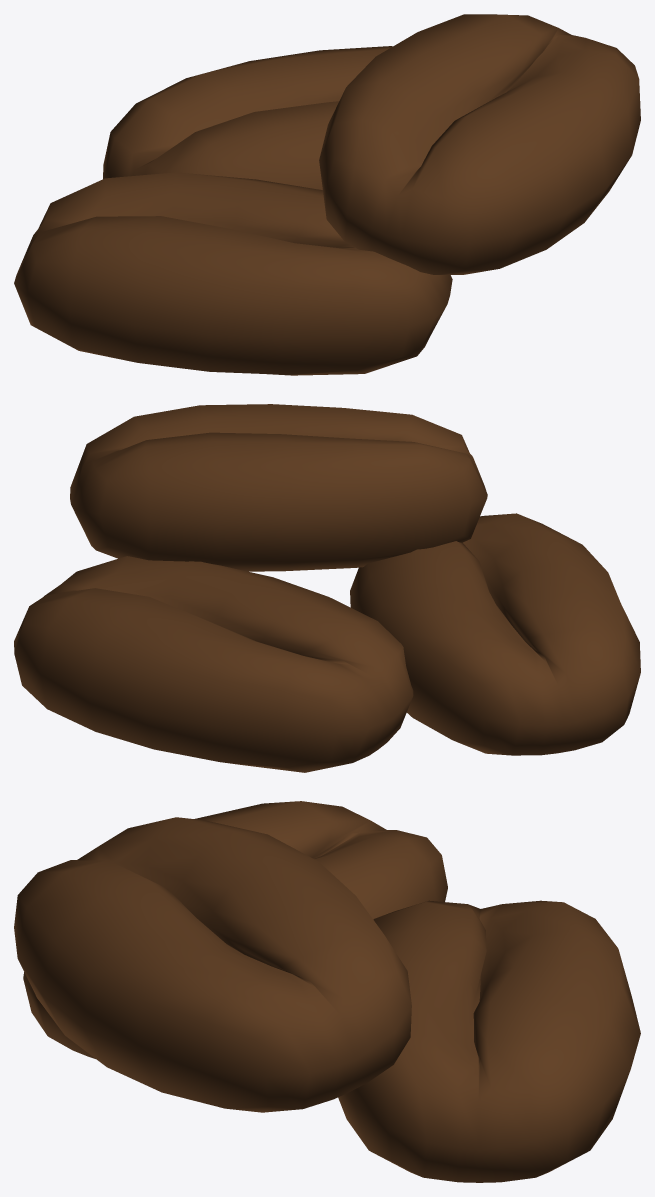
Rendered from coffee_beans.fbx.
3 renders of one model, top to bottom at view 1: azimuth 30°, elevation 25°; view 2: azimuth 150°, elevation 25°; view 3: azimuth 270°, elevation 25°, orthographic. The views are drawn at different scales.
Visible parts, largest first — view 1: CoffeeBean3, CoffeeBean2, CoffeeBean1; view 2: CoffeeBean1, CoffeeBean2, CoffeeBean3; view 3: CoffeeBean2, CoffeeBean1, CoffeeBean3.
Boxes of the visible parts, x1=… form: CoffeeBean3: x1=14, y1=172, x2=452, y2=375; CoffeeBean2: x1=319, y1=14, x2=640, y2=274; CoffeeBean1: x1=103, y1=46, x2=392, y2=189; CoffeeBean1: x1=14, y1=556, x2=413, y2=772; CoffeeBean2: x1=70, y1=404, x2=487, y2=571; CoffeeBean3: x1=350, y1=513, x2=640, y2=755; CoffeeBean2: x1=14, y1=817, x2=411, y2=1112; CoffeeBean1: x1=338, y1=900, x2=640, y2=1182; CoffeeBean3: x1=23, y1=801, x2=447, y2=1058.
Size of the model in its own units: 447 by 164 by 366.
